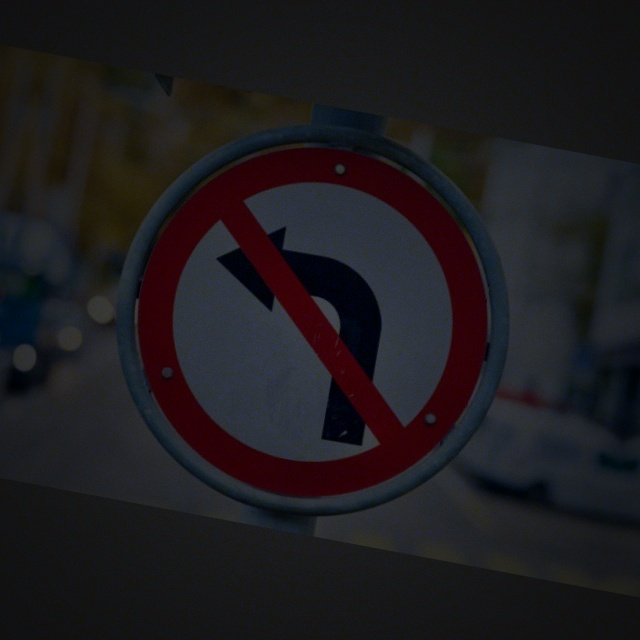Left_Turn_Prohibited: (87, 93, 541, 540)
